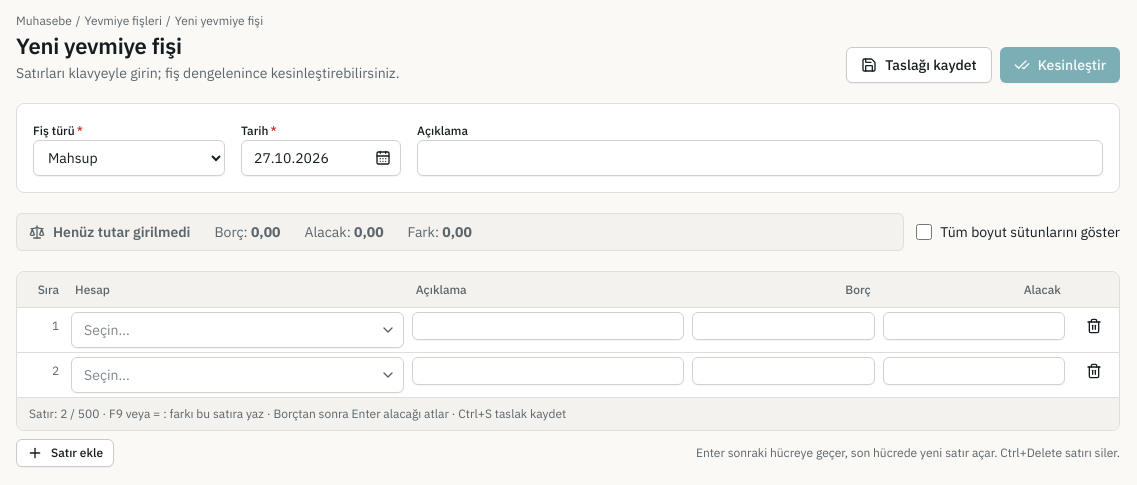
Scenario: journal entry editor › shows currency columns with a base amount preview for foreign-currency accounts
The width and height of the screenshot is (1137, 485).
Type "Garanti" into the 1st dropdown with placeholder "Seçin…" at (237, 330), box [71, 312, 404, 348]
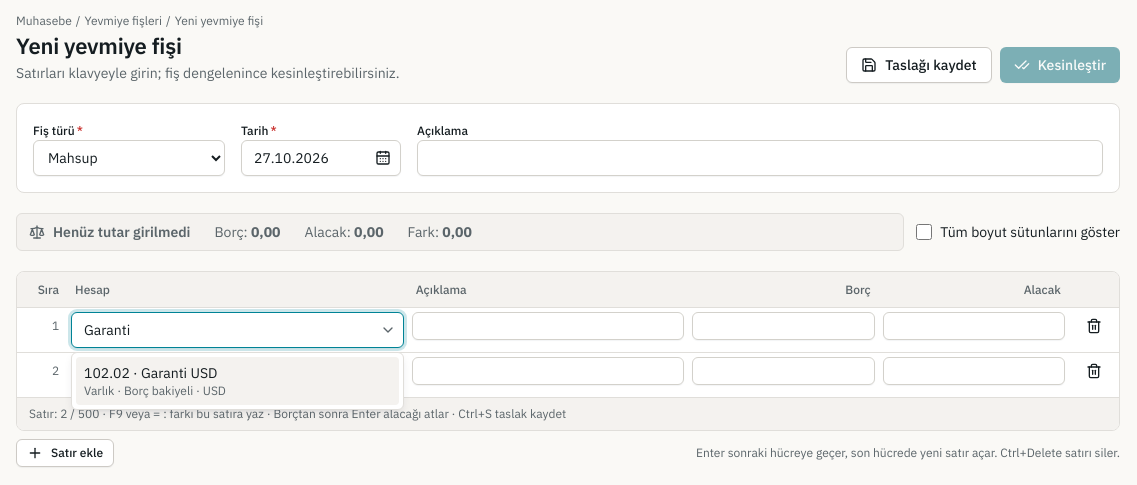
Click the option "102.02 · Garanti USD Varlık · Borç bakiyeli · USD" at (151, 373), box [76, 357, 399, 405]
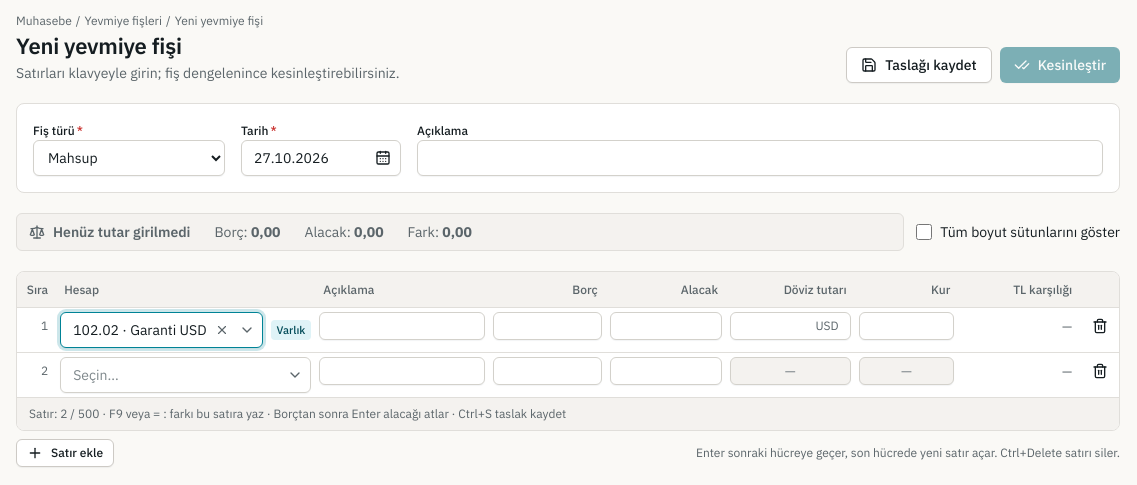
Type "100" into the field named "Döviz tutarı, 1. satır" at (790, 326), box [730, 312, 851, 340]
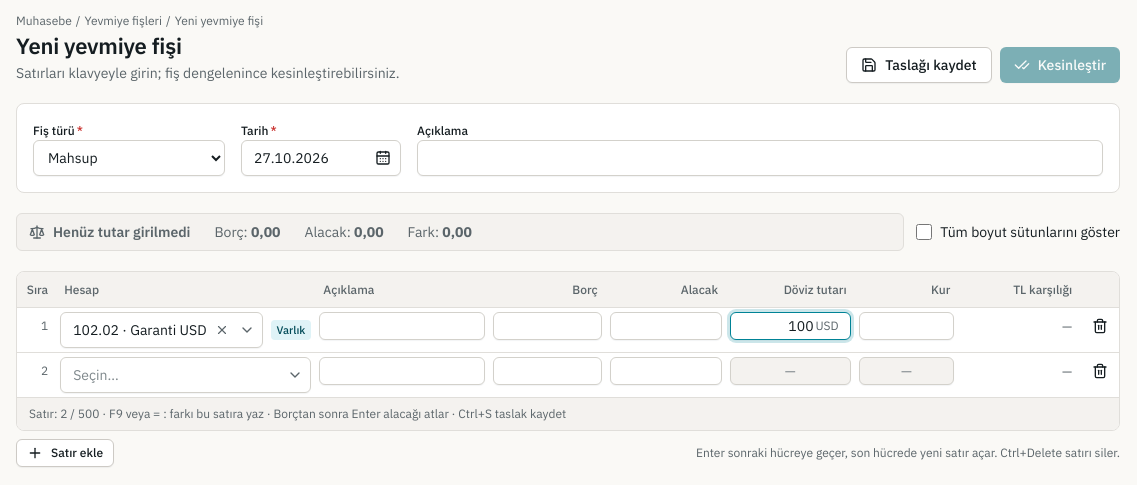
Type "34,5" into the field named "Kur, 1. satır" at (906, 326), box [859, 312, 954, 340]
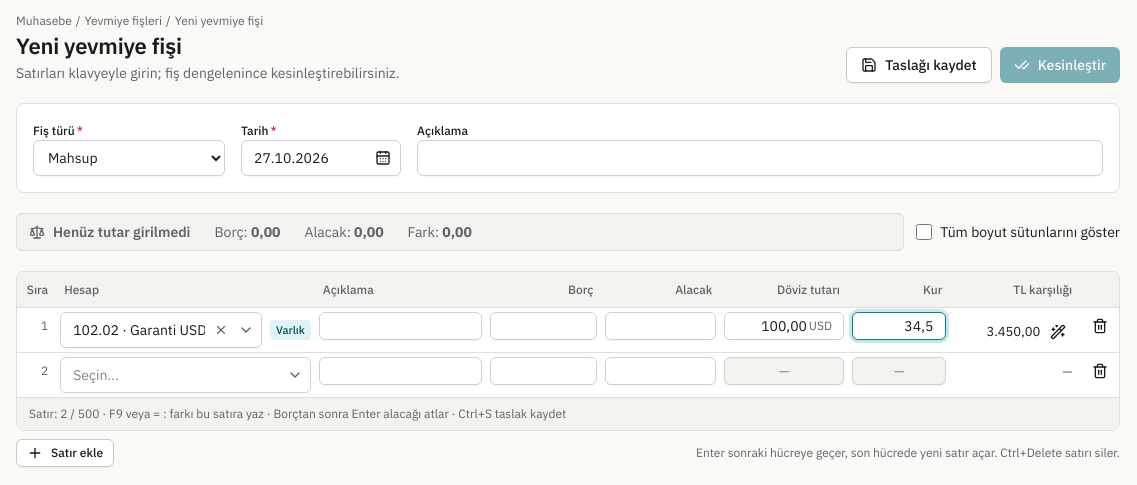
Now the text with test id "base-preview-0" reads "3.450,00", box [986, 323, 1040, 340]
Click the button named "1. satıra TL karşılığını yaz" at (1058, 332), box [1044, 318, 1072, 346]
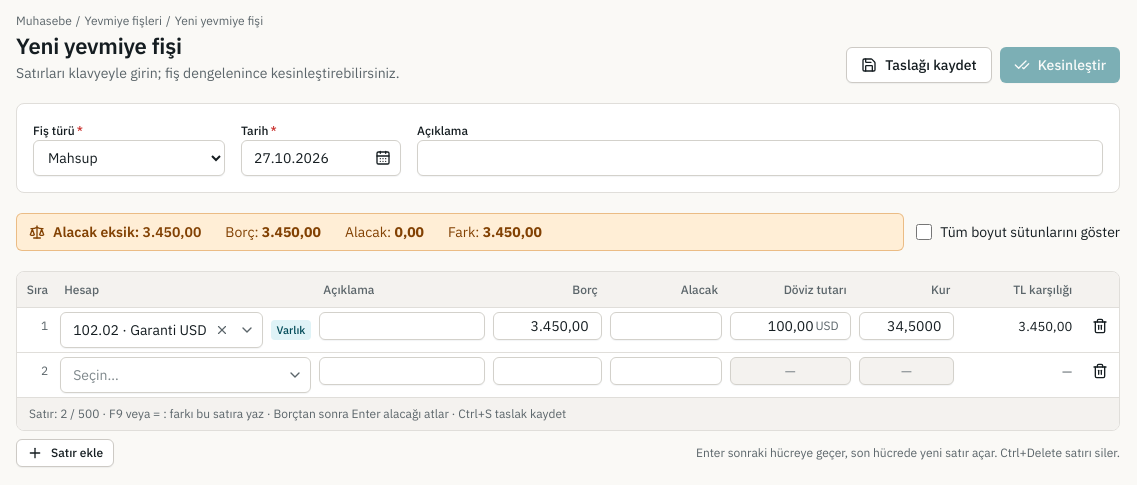
Now the field named "Borç, 1. satır" holds "3.450,00", box [493, 312, 602, 340]
